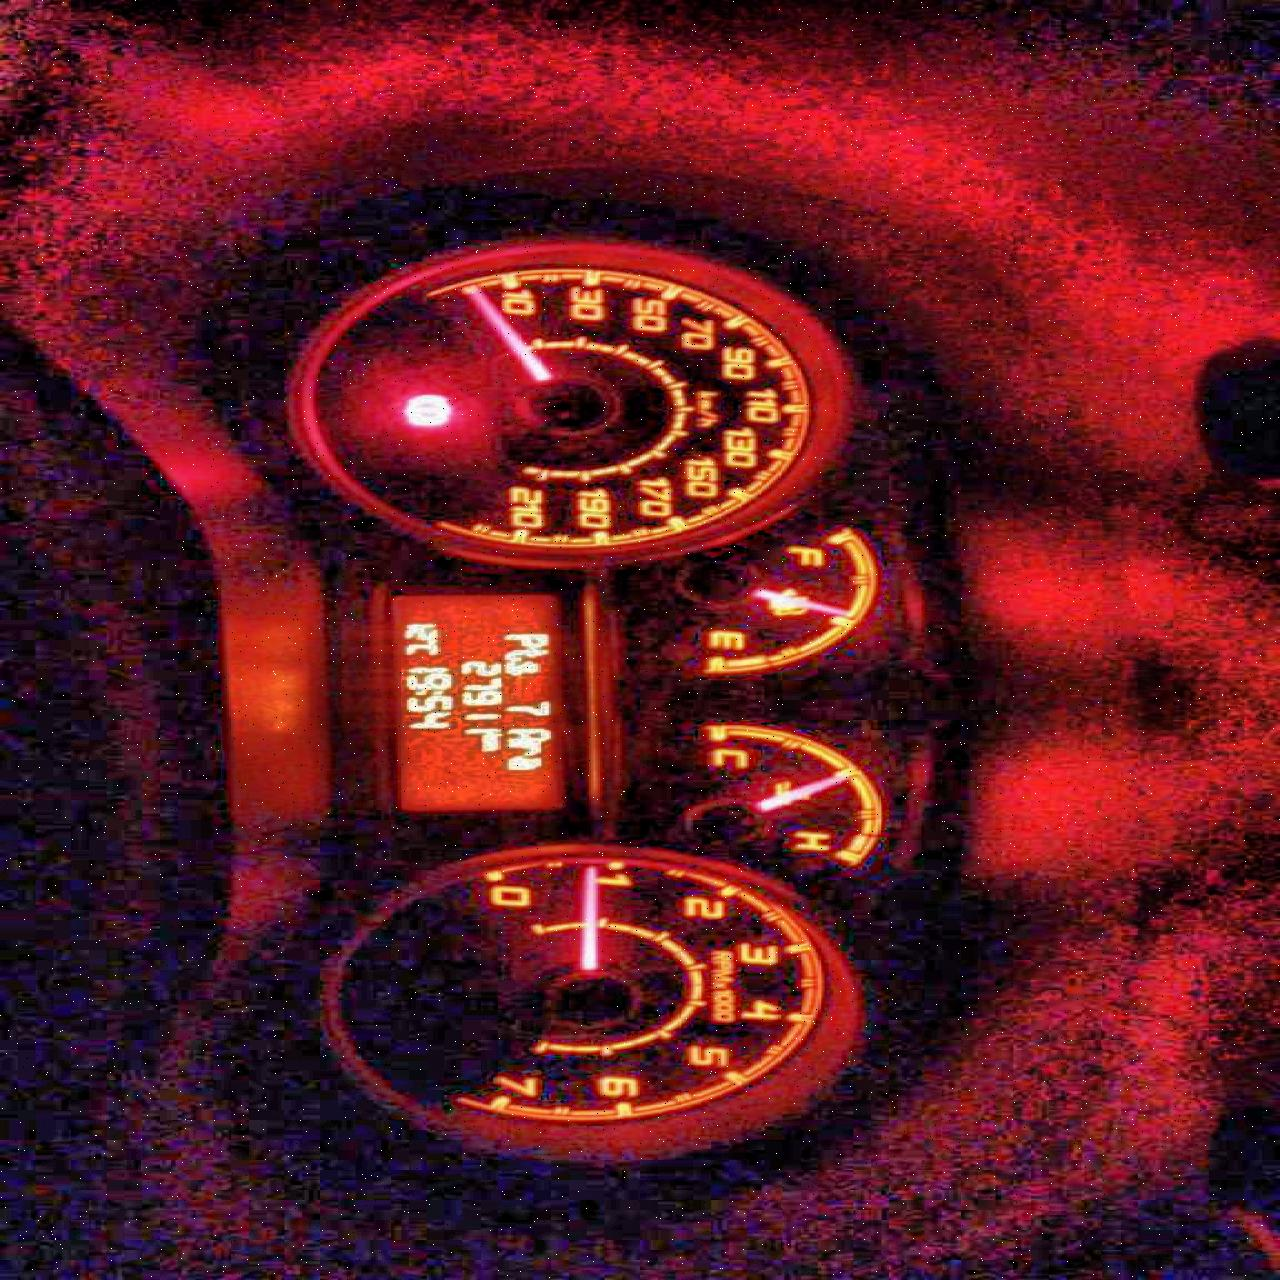1: (458, 712, 501, 720), (402, 666, 451, 673), (458, 727, 501, 733), (400, 621, 438, 627)
2: (458, 660, 501, 676), (400, 627, 438, 638)
4: (407, 712, 451, 728)
5: (404, 695, 451, 712)
7: (504, 699, 553, 716), (459, 676, 502, 689)
9: (404, 673, 451, 688), (459, 690, 502, 704)
X: (502, 632, 549, 647), (505, 728, 551, 742), (501, 660, 540, 675), (504, 755, 545, 769), (502, 648, 549, 660), (504, 741, 543, 755), (402, 642, 437, 655), (478, 741, 498, 751), (411, 688, 444, 694), (478, 733, 502, 740)
odometer: (375, 585, 576, 819)
